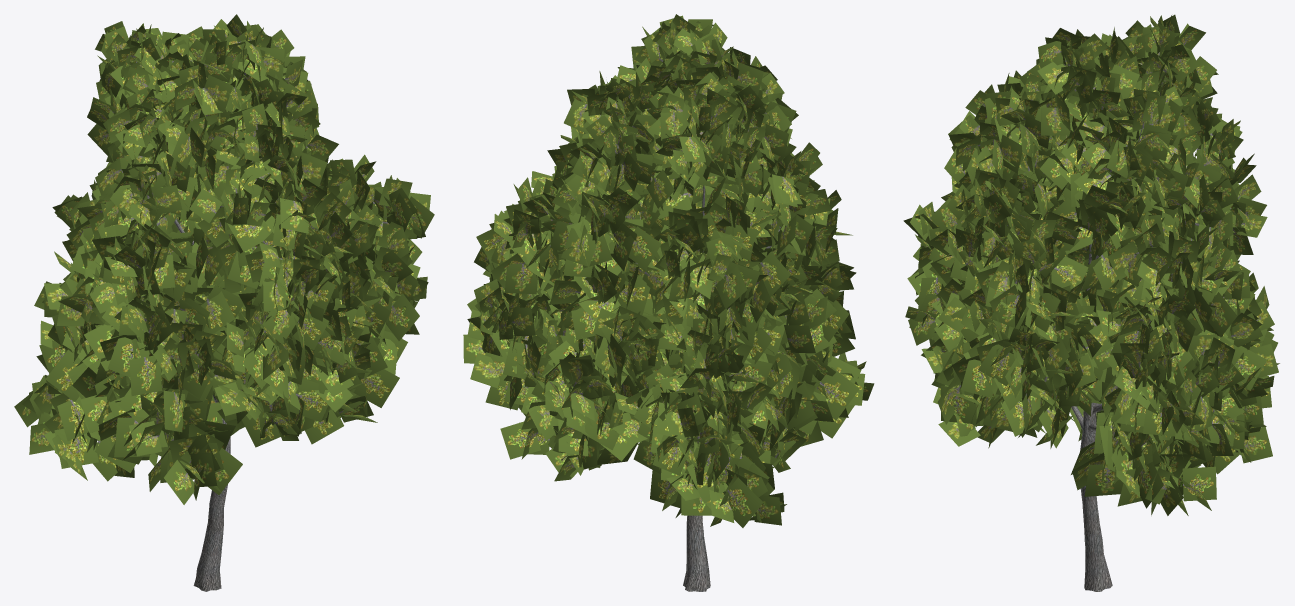
Rendered from European_Linden.fbx.
The picture shows the model from 3 angles, left to right: view 1: azimuth 30°, elevation 25°; view 2: azimuth 150°, elevation 25°; view 3: azimuth 270°, elevation 25°; orthographic projection.
Parts seen in each view (by area): view 1: EuropeanLinden_Hero_26; view 2: EuropeanLinden_Hero_26; view 3: EuropeanLinden_Hero_26.
Part boxes in pixels (x1=…): EuropeanLinden_Hero_26: x1=14, y1=14, x2=434, y2=591; EuropeanLinden_Hero_26: x1=463, y1=14, x2=874, y2=591; EuropeanLinden_Hero_26: x1=903, y1=14, x2=1279, y2=591.
Bounding box in the file's own units: 1.99 × 3.15 × 1.9.
Materials: 4 (4 with a texture image).
